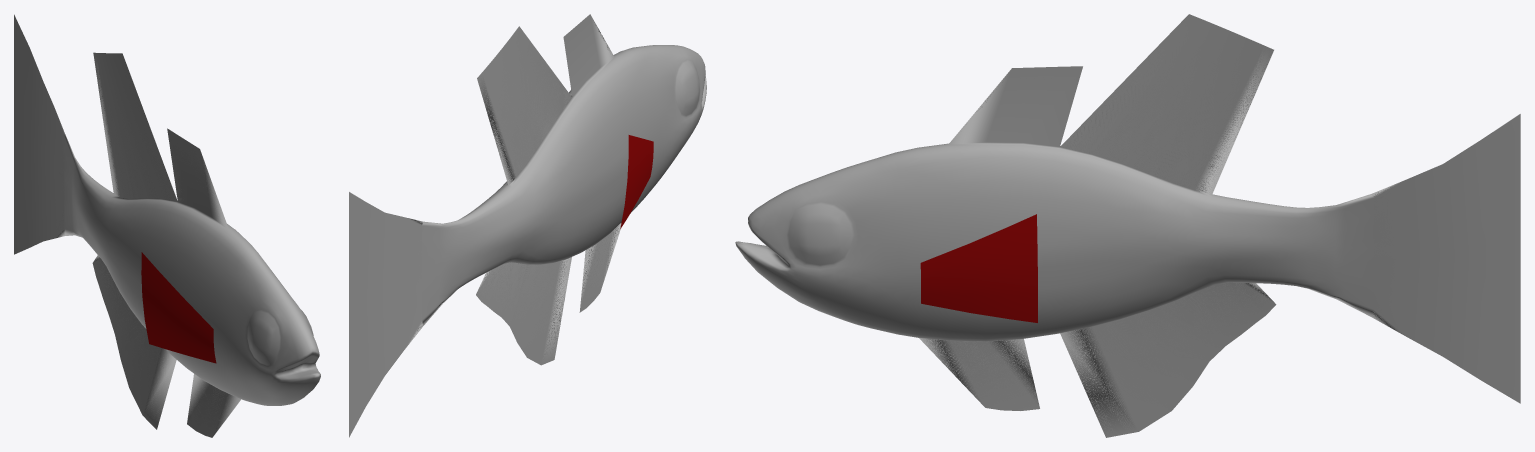
File: Apogonidae_A.fbx
3 views of the same model, side by side, from view 1: azimuth 30°, elevation 25°; view 2: azimuth 150°, elevation 25°; view 3: azimuth 270°, elevation 25° (orthographic). The views are drawn at different scales.
Visible parts, largest first — view 1: Apogonidae_A_LOD0; view 2: Apogonidae_A_LOD0; view 3: Apogonidae_A_LOD0.
Part boxes in pixels (<box>): Apogonidae_A_LOD0: <box>14,14,320,437</box>; Apogonidae_A_LOD0: <box>349,14,706,437</box>; Apogonidae_A_LOD0: <box>735,14,1520,437</box>.
Size of what is drawn, in the model's own units: 0.171 by 0.6139 by 1.03.
